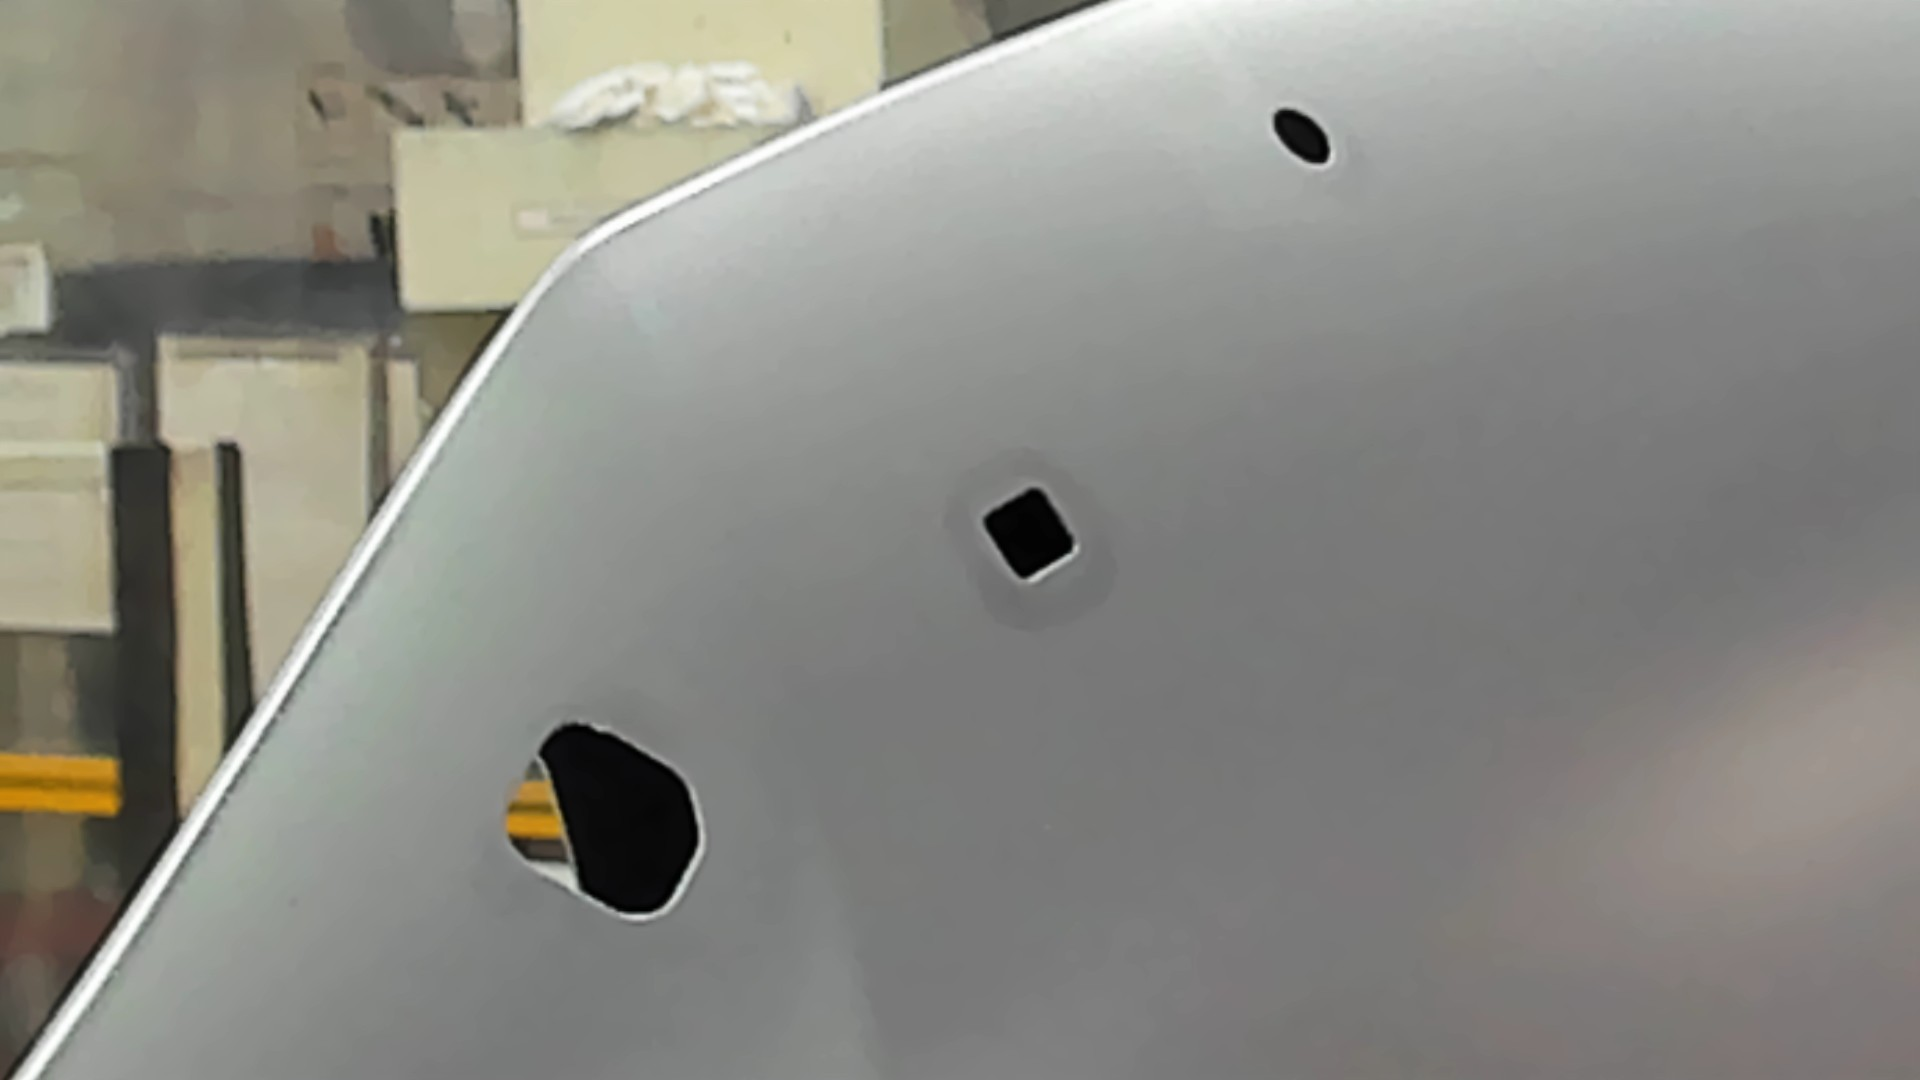capo: (1091, 169, 1920, 1080)
chico: (1269, 103, 1335, 170)
grande: (502, 717, 709, 924)
mediano: (982, 481, 1084, 588)
